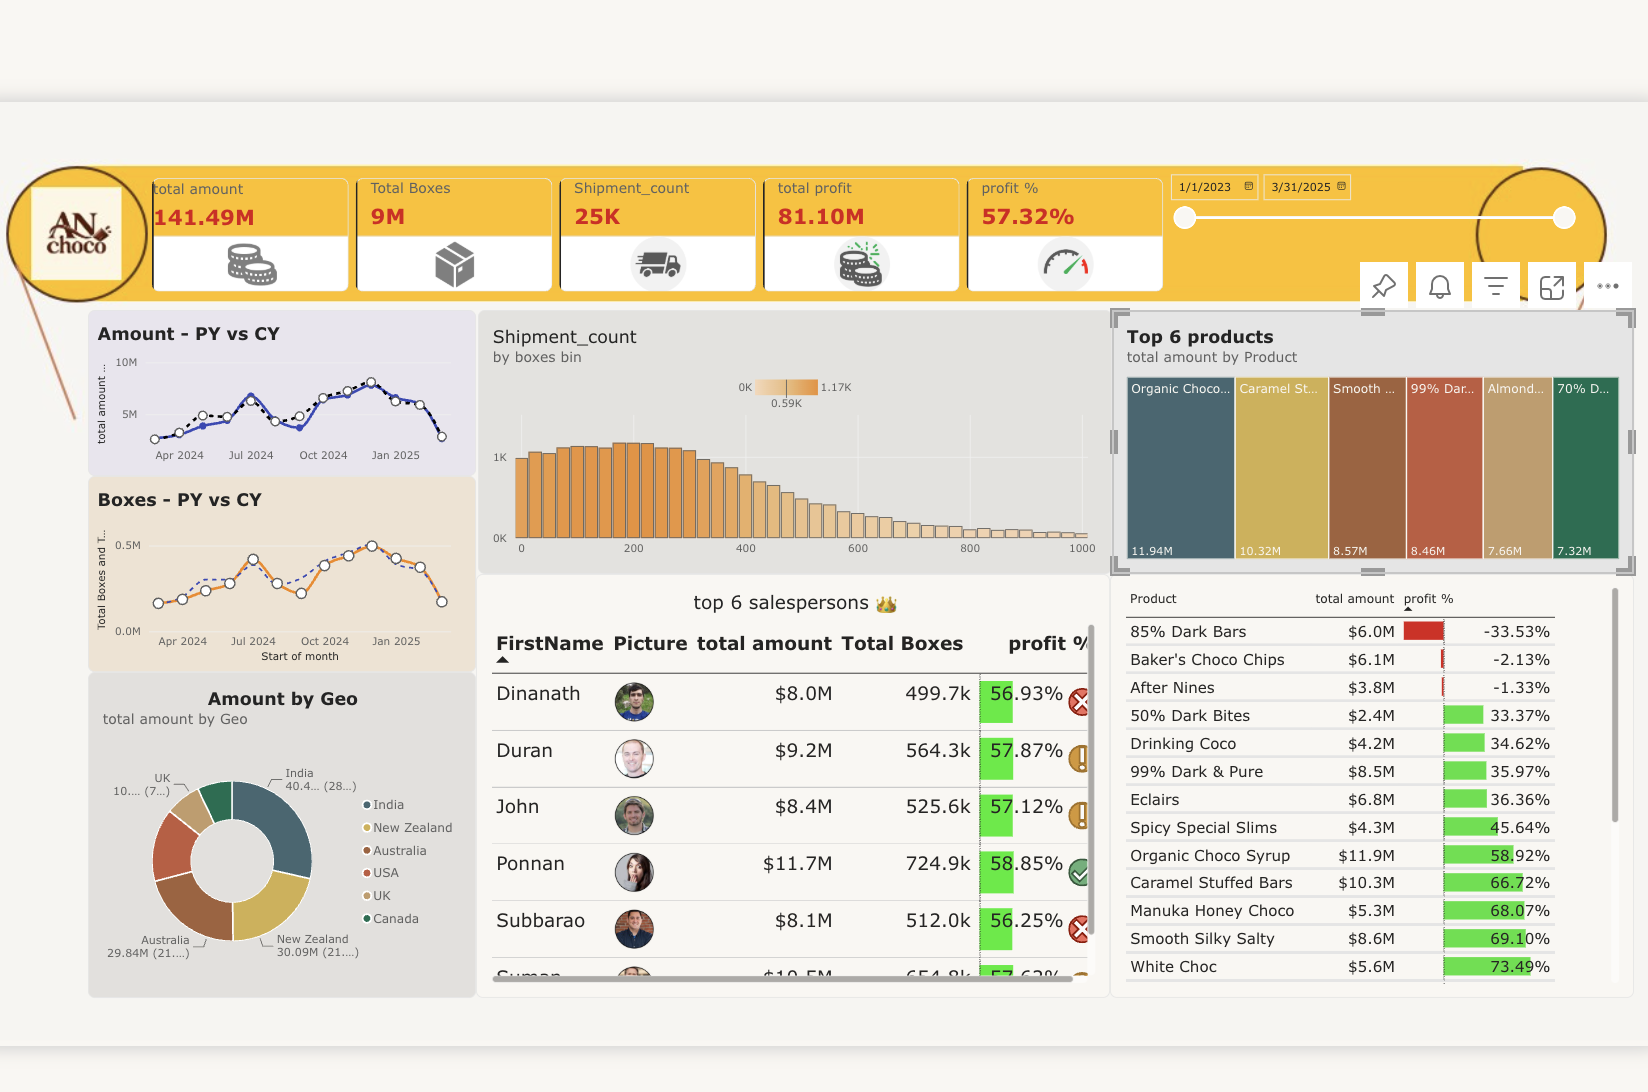

Layout of this report page (visuals, bound fields, positions):
{"tool":"powerbi","page":{"name":"Page 5","canvas":[1920,1080],"ordinal":4},"visuals":[{"type":"lineChart","title":"Amount - PY vs CY","fields":{"Category":["calendar.Start of month"],"Y":["shipments.total amount","shipments.total amount(last year)"]},"box":[123.6,238,444,189.9],"z":0},{"type":"lineChart","title":"Boxes - PY vs CY","fields":{"Category":["calendar.Start of month"],"Y":["shipments.Total Boxes","shipments.Total Boxes (Last Year)"]},"box":[123.6,427.9,444,224.3],"z":1},{"type":"donutChart","title":"Amount by Geo","fields":{"Category":["locations.Geo"],"Y":["shipments.total amount"]},"box":[123.6,652.2,444,373],"z":2},{"type":"clusteredColumnChart","fields":{"Category":["shipments.boxes bin"],"Y":["shipments.Shipment_count"]},"box":[569.8,238,725.4,302.1],"z":3},{"type":"tableEx","title":"top 6 salespersons 👑","fields":{"Values":["people.FirstName","people.Picture","shipments.total amount","shipments.Total Boxes","shipments.profit %"]},"box":[567.5,540.1,725.4,485.1],"z":4},{"type":"treemap","title":"Top 6 products","fields":{"Group":["products.Product"],"Values":["shipments.total amount"]},"box":[1295.3,238,597.3,302.1],"z":6},{"type":"tableEx","fields":{"Values":["products.Product","shipments.total amount","shipments.profit %"]},"box":[1293,540.1,599.6,485.1],"z":7},{"type":"cardVisual","fields":{"Data":["shipments.total amount","shipments.Total Boxes","shipments.Shipment_count","shipments.total profit","shipments.profit %"]},"box":[196.8,87,1157.9,130.4],"z":8},{"type":"slicer","fields":{"Values":["calendar.cal_date"]},"box":[1354.8,77.8,473.7,139.6],"z":9}]}

Visuals, with their boxes on the page's 1920x1080 design canvas (x1, y1, x2, y2). These are canvas units, not pixel positions in the 1648x1092 screenshot, which may show the page scaled, cropped or inside an application window:
"Amount - PY vs CY" lineChart: x1=124 y1=238 x2=568 y2=428
"Boxes - PY vs CY" lineChart: x1=124 y1=428 x2=568 y2=652
"Amount by Geo" donutChart: x1=124 y1=652 x2=568 y2=1025
clusteredColumnChart - shipments.boxes bin x shipments.Shipment_count: x1=570 y1=238 x2=1295 y2=540
"top 6 salespersons 👑" tableEx: x1=568 y1=540 x2=1293 y2=1025
"Top 6 products" treemap: x1=1295 y1=238 x2=1893 y2=540
tableEx - products.Product x shipments.total amount: x1=1293 y1=540 x2=1893 y2=1025
cardVisual - shipments.total amount x shipments.Total Boxes: x1=197 y1=87 x2=1355 y2=217
slicer - calendar.cal_date: x1=1355 y1=78 x2=1828 y2=217
